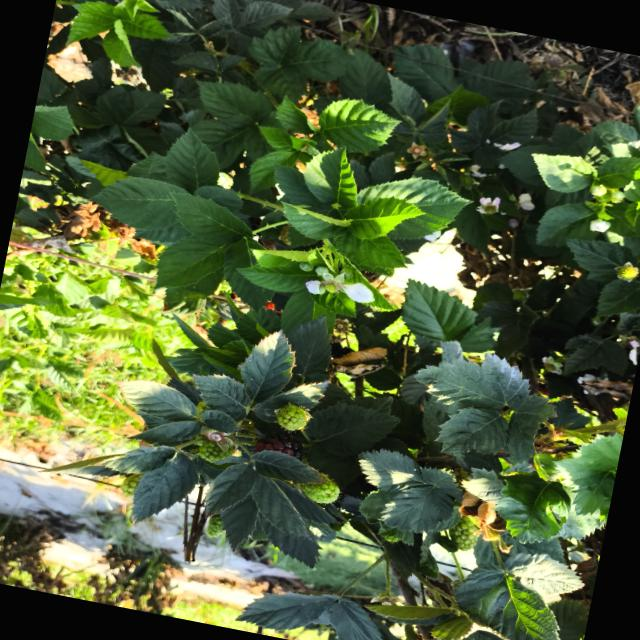boton: (590, 219, 610, 233), (590, 184, 608, 197), (299, 262, 314, 272)
flor: (305, 267, 374, 303)
verde: (302, 477, 340, 504), (449, 516, 478, 551), (276, 404, 307, 431), (199, 439, 227, 462), (121, 474, 142, 500), (207, 515, 222, 537)
